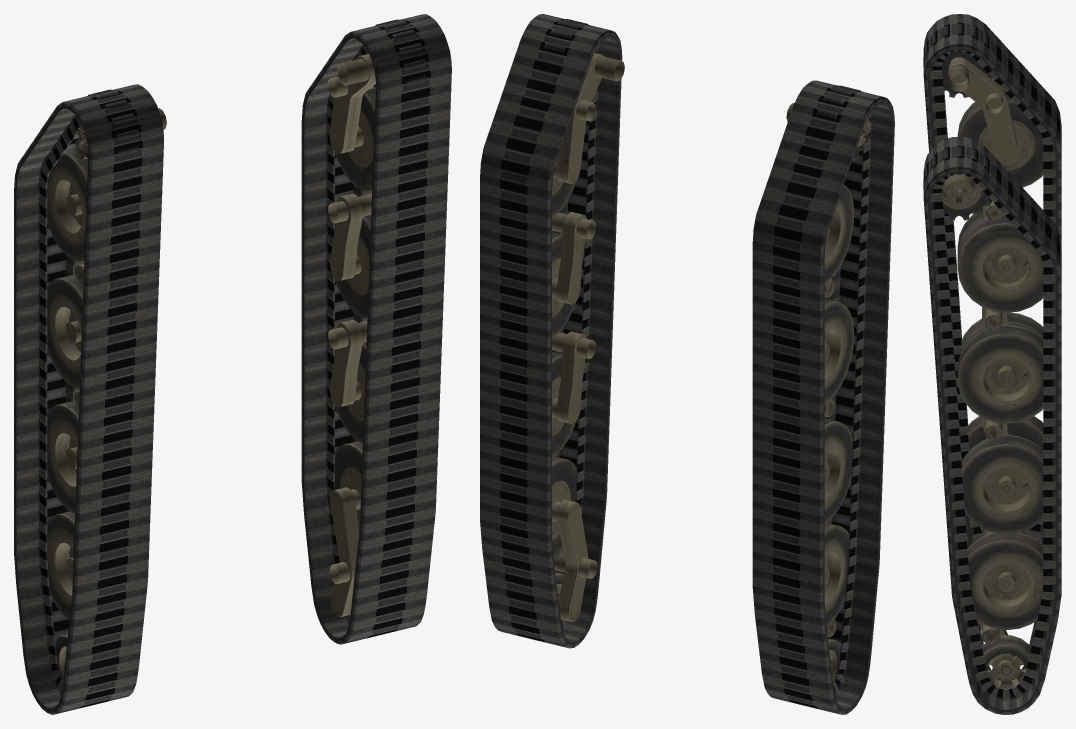
File: Chassis.glb
The picture shows the model from 3 angles, left to right: view 1: azimuth 30°, elevation 25°; view 2: azimuth 150°, elevation 25°; view 3: azimuth 270°, elevation 25°; orthographic projection. The views are drawn at different scales.
Visible parts, largest first — view 1: set_1_group_0, set_0_group_0, set_3_group_0, set_2_group_0; view 2: set_1_group_0, set_0_group_0, set_3_group_0, set_2_group_0; view 3: set_3_group_0, set_0_group_0, set_1_group_0, set_2_group_0.
Part boxes in pixels (x1=…): set_1_group_0: x1=14, y1=84, x2=163, y2=714; set_0_group_0: x1=301, y1=14, x2=451, y2=644; set_3_group_0: x1=327, y1=19, x2=426, y2=617; set_2_group_0: x1=47, y1=89, x2=166, y2=680; set_1_group_0: x1=752, y1=80, x2=894, y2=714; set_0_group_0: x1=480, y1=14, x2=622, y2=648; set_3_group_0: x1=544, y1=19, x2=624, y2=621; set_2_group_0: x1=786, y1=85, x2=870, y2=683; set_3_group_0: x1=923, y1=146, x2=1043, y2=689; set_0_group_0: x1=923, y1=136, x2=1061, y2=714; set_1_group_0: x1=923, y1=14, x2=1061, y2=547; set_2_group_0: x1=923, y1=24, x2=1043, y2=535.
Bounding box in the file's own units: 2.49 × 4.13 × 0.9432.
Materials: 4 (4 with a texture image).
